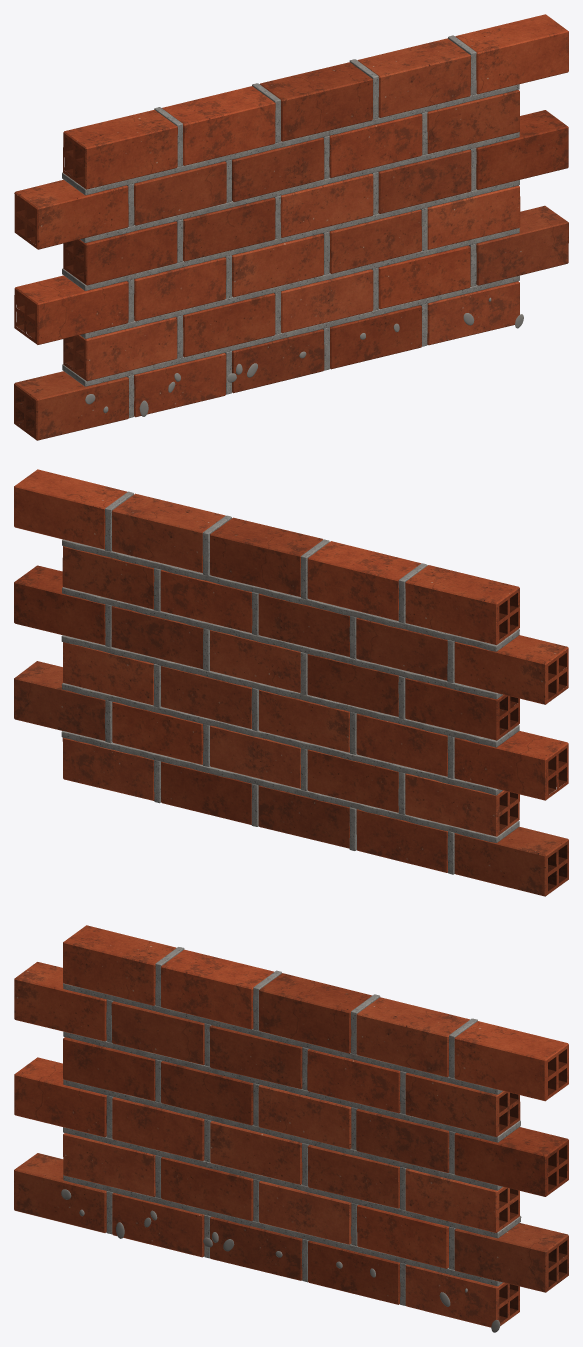
File: gach.glb
3 views of the same model, one above another, from view 1: azimuth 30°, elevation 25°; view 2: azimuth 150°, elevation 25°; view 3: azimuth 330°, elevation 25° (orthographic).
Parts seen in each view (by area): view 1: Brick_c6_1, Brick_c5_1, Brick_c3_1, Brick_c6_5, Brick_c6_2, Brick_c6_4, Brick_c6_3, Brick_c1_1, Brick_c2_1, Brick_c4_5, Brick_c2_5, Brick_c4_1 (+30 smaller); view 2: Brick_c6_1, Brick_c3_1, Brick_c1_1, Brick_c5_1, Brick_c6_5, Brick_c6_2, Brick_c6_3, Brick_c6_4, Brick_c2_1, Brick_c4_5, Brick_c4_1, Brick_c2_5 (+29 smaller); view 3: Brick_c6_5, Brick_c4_5, Brick_c2_5, Brick_c6_1, Brick_c6_3, Brick_c6_4, Brick_c6_2, Brick_c3_5, Brick_c5_5, Brick_c5_1, Brick_c3_1, Brick_c1_1 (+30 smaller).
Boxes of the visible parts, <box> form: Brick_c6_1: <box>63,109,177,189</box>; Brick_c5_1: <box>14,179,128,249</box>; Brick_c3_1: <box>14,275,128,344</box>; Brick_c6_5: <box>455,14,568,94</box>; Brick_c6_2: <box>162,86,275,165</box>; Brick_c6_4: <box>357,38,470,117</box>; Brick_c6_3: <box>259,62,372,141</box>; Brick_c1_1: <box>14,371,128,440</box>; Brick_c2_1: <box>63,317,177,381</box>; Brick_c4_5: <box>476,110,568,189</box>; Brick_c2_5: <box>476,205,568,285</box>; Brick_c4_1: <box>63,221,177,285</box>; Brick_c6_1: <box>405,565,519,644</box>; Brick_c3_1: <box>454,731,568,800</box>; Brick_c1_1: <box>454,826,568,896</box>; Brick_c5_1: <box>454,635,568,704</box>; Brick_c6_5: <box>14,469,127,549</box>; Brick_c6_2: <box>307,541,420,620</box>; Brick_c6_3: <box>210,517,323,596</box>; Brick_c6_4: <box>112,493,225,572</box>; Brick_c2_1: <box>405,773,519,836</box>; Brick_c4_5: <box>14,565,105,644</box>; Brick_c4_1: <box>405,678,519,740</box>; Brick_c2_5: <box>14,661,105,740</box>; Brick_c6_5: <box>454,1021,568,1101</box>; Brick_c4_5: <box>454,1127,568,1196</box>; Brick_c2_5: <box>454,1223,568,1292</box>; Brick_c6_1: <box>63,925,176,1005</box>; Brick_c6_3: <box>259,973,372,1053</box>; Brick_c6_4: <box>356,997,469,1077</box>; Brick_c6_2: <box>161,949,273,1029</box>; Brick_c3_5: <box>405,1168,519,1232</box>; Brick_c5_5: <box>405,1073,520,1137</box>; Brick_c5_1: <box>14,962,106,1041</box>; Brick_c3_1: <box>14,1057,106,1137</box>; Brick_c1_1: <box>14,1153,106,1232</box>.
Size of the model in its own units: 2.07 by 1.06 by 0.1701.
2 materials, 2 textured.
